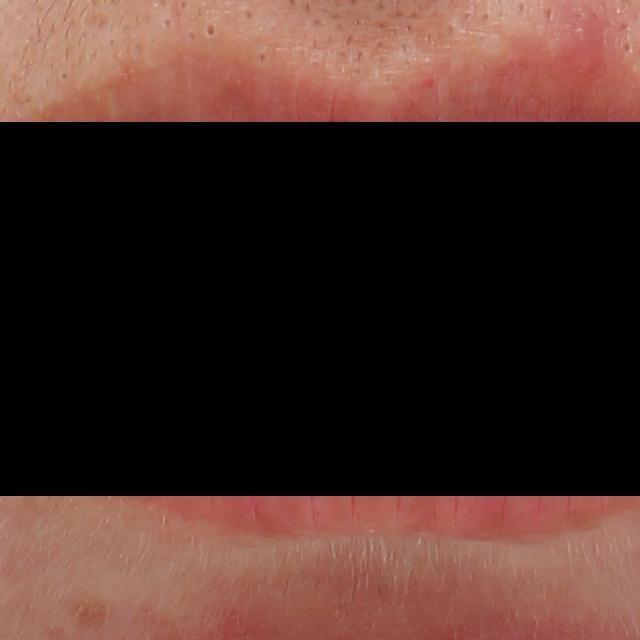atrophic_scar: (81, 14, 109, 31)
comedo: (201, 19, 218, 37)
